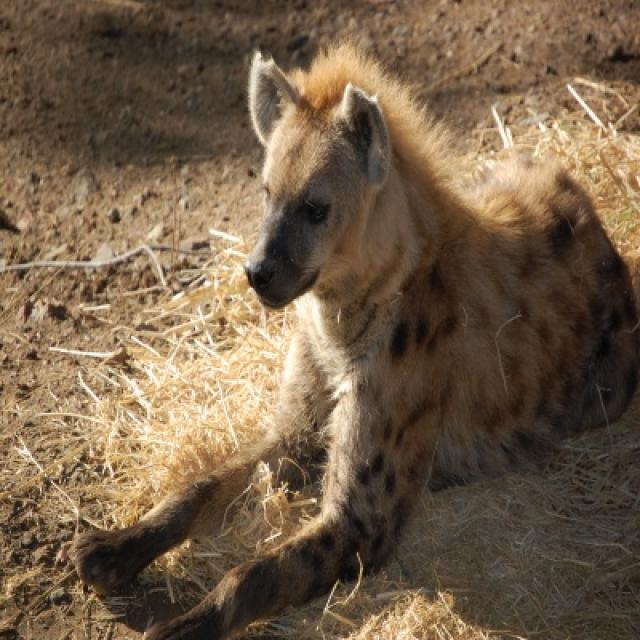hyena: (74, 46, 638, 638)
